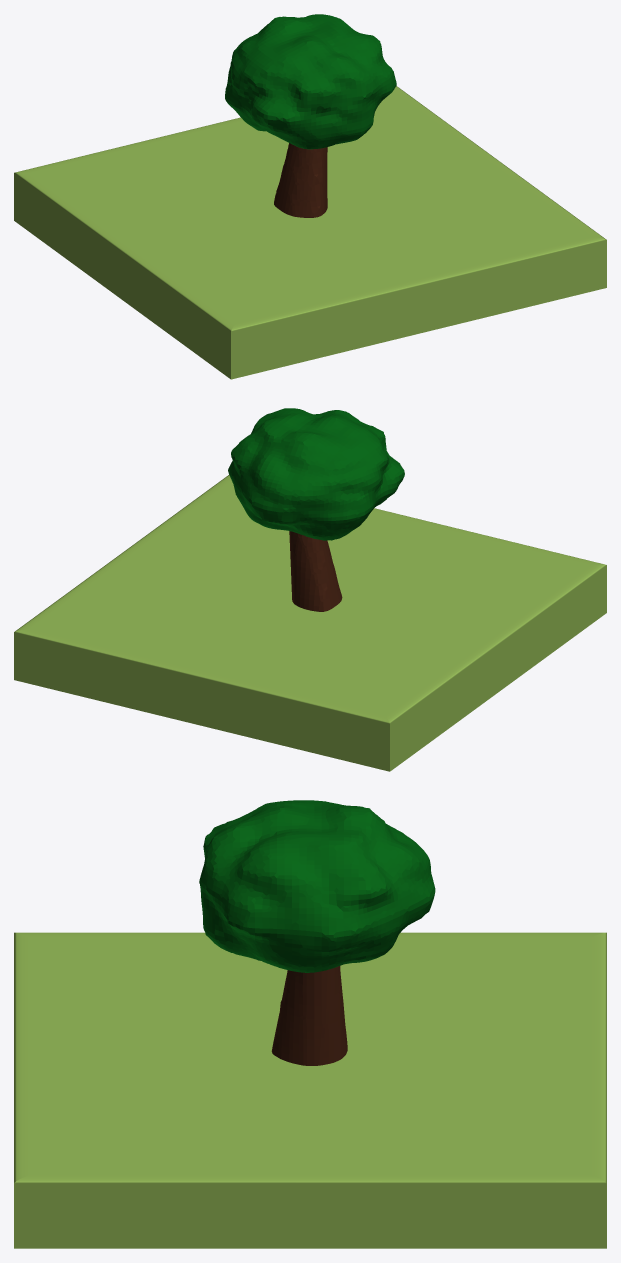
The model's file is empty tile.fbx.
3 renders of one model, top to bottom at view 1: azimuth 30°, elevation 25°; view 2: azimuth 150°, elevation 25°; view 3: azimuth 270°, elevation 25°, orthographic. The views are drawn at different scales.
Visible parts, largest first — view 1: Tile, Tree; view 2: Tile, Tree; view 3: Tile, Tree.
Boxes of the visible parts, bbox=[...] form: Tile: bbox=[14, 86, 606, 379]; Tree: bbox=[225, 14, 396, 217]; Tile: bbox=[14, 475, 606, 771]; Tree: bbox=[228, 408, 404, 611]; Tile: bbox=[14, 932, 606, 1248]; Tree: bbox=[199, 800, 435, 1065].
Size of the model in its own units: 800 by 457 by 800.
